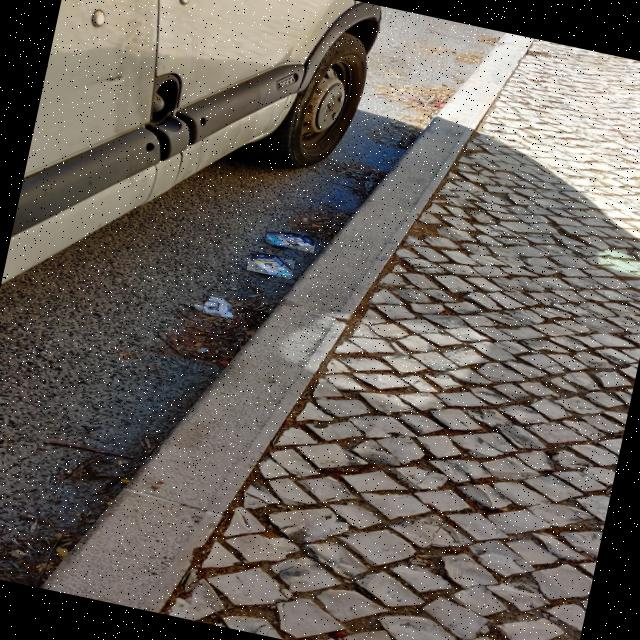Cigarette: (192, 331, 207, 336), (192, 342, 201, 348), (204, 338, 211, 344), (312, 224, 321, 227), (401, 241, 406, 246), (428, 52, 436, 53)
Other carton: (248, 255, 292, 276), (265, 235, 315, 248)
Other plastic: (203, 295, 235, 317)
